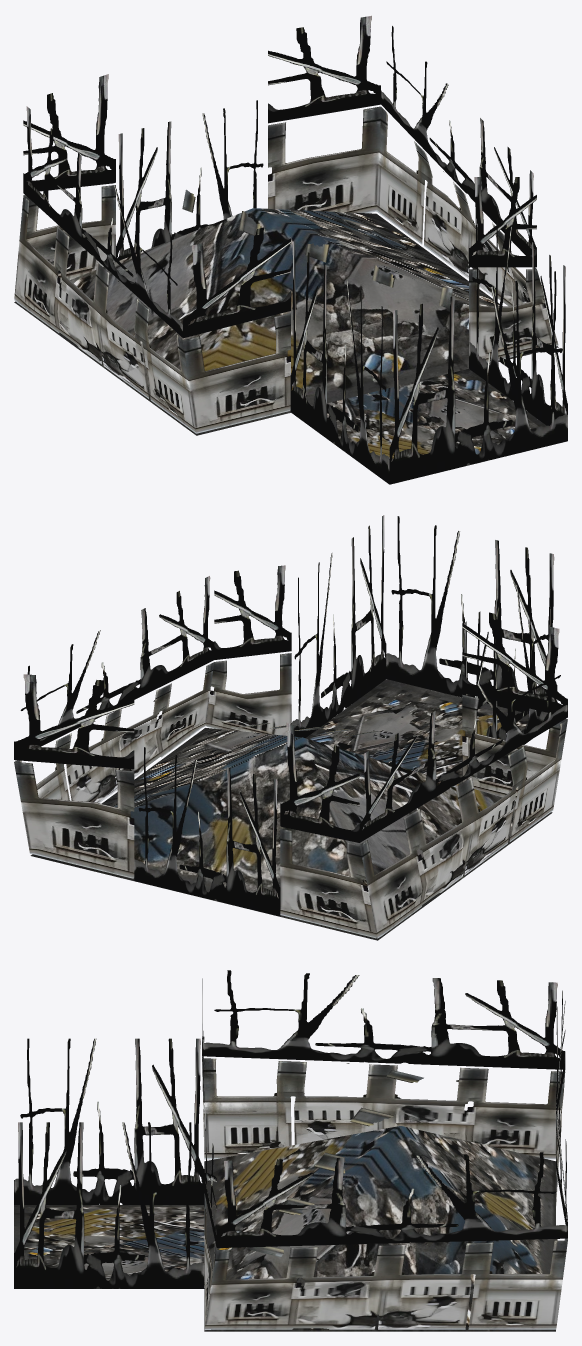
The model's file is s_main_rightwing_dam_hdtex.glb.
The picture shows the model from 3 angles, top to bottom: view 1: azimuth 30°, elevation 25°; view 2: azimuth 150°, elevation 25°; view 3: azimuth 270°, elevation 25°; orthographic projection. The views are drawn at different scales.
Parts seen in each view (by area): view 1: S_HC_Rightwing; view 2: S_HC_Rightwing; view 3: S_HC_Rightwing.
Part boxes in pixels (x1,y1,x2,y2): S_HC_Rightwing: [14, 15, 567, 484]; S_HC_Rightwing: [14, 515, 567, 940]; S_HC_Rightwing: [14, 970, 567, 1331].
Size of the model in its own units: 16.65 by 8.5 by 21.38.
Materials: 3 (3 with a texture image).
